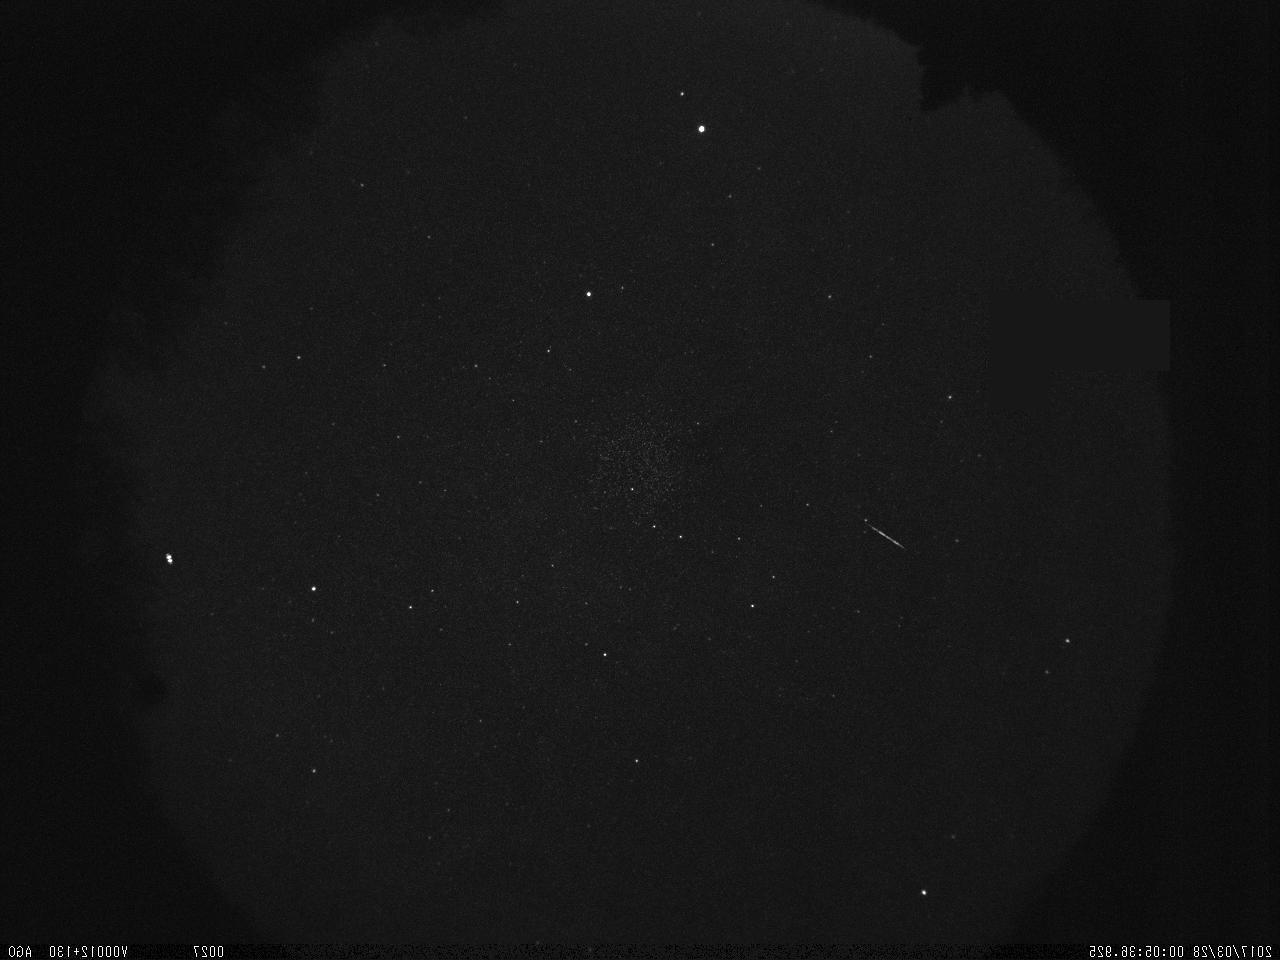meteor: (829, 512, 927, 562)
